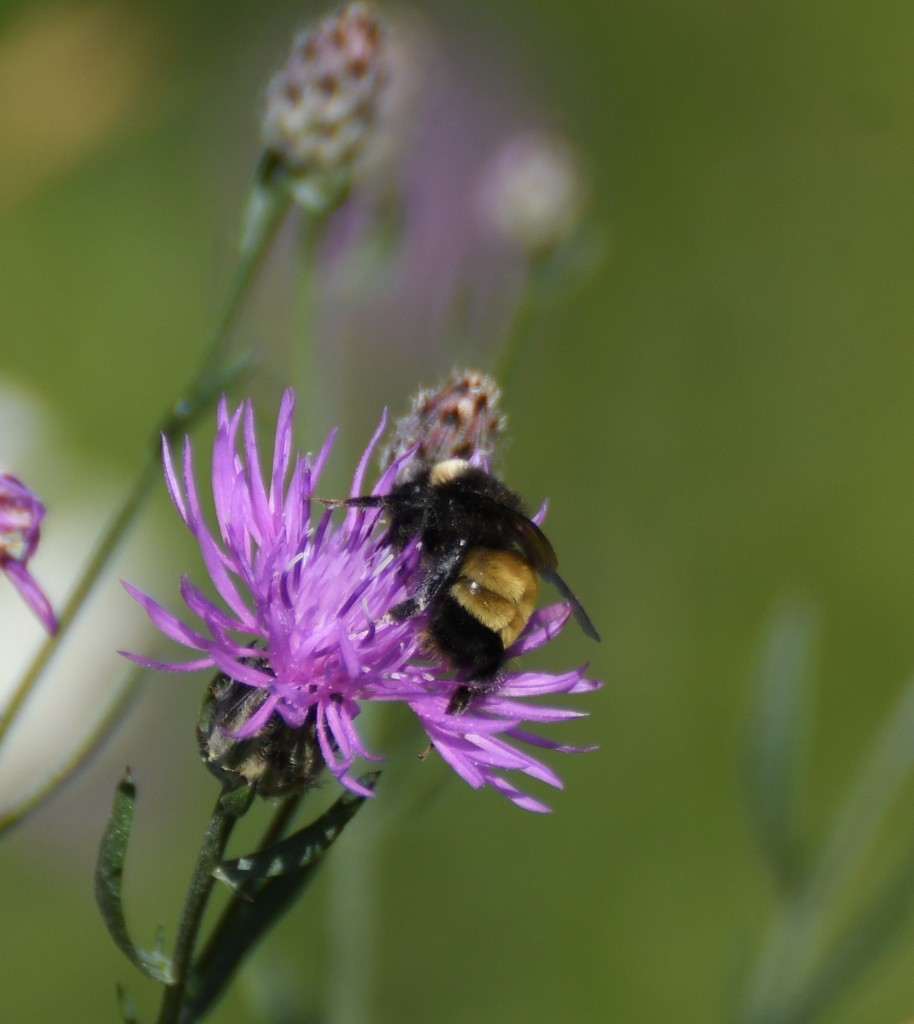bumblebee: (317, 456, 603, 719)
